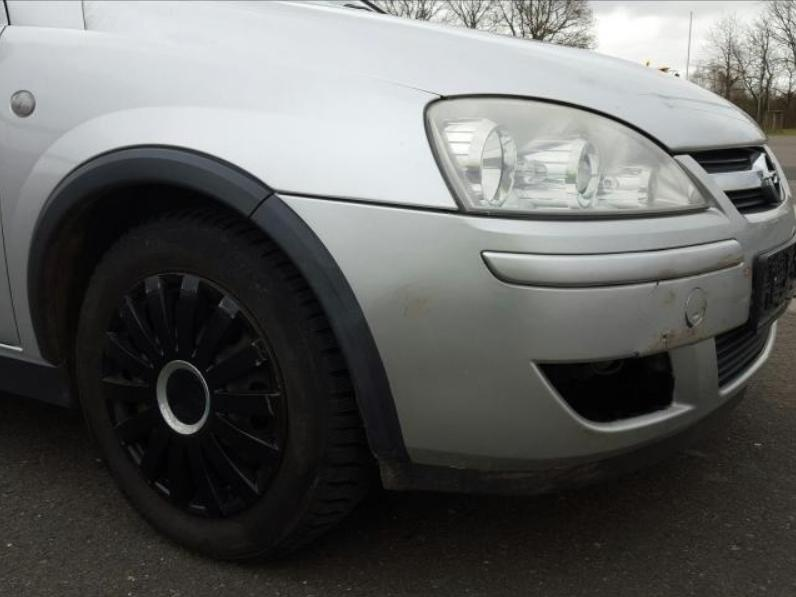Fender: (0, 1, 463, 347)
Front-bumper: (251, 152, 796, 496)
Front-door: (0, 232, 19, 347)
Front-wheel: (72, 202, 376, 575)
Grille: (692, 146, 789, 221)
Headlight: (427, 99, 704, 213)
Hood: (89, 0, 768, 153)
License-plate: (750, 245, 792, 318)
Rocker-panel: (0, 343, 54, 368)
